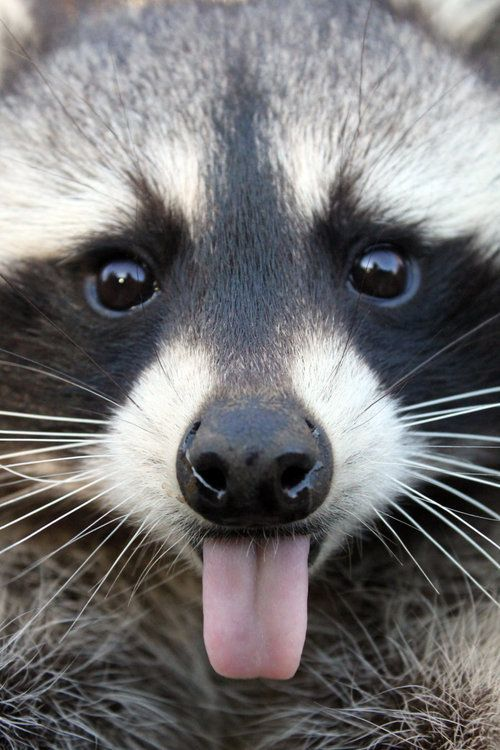raccoon: (20, 4, 488, 750)
